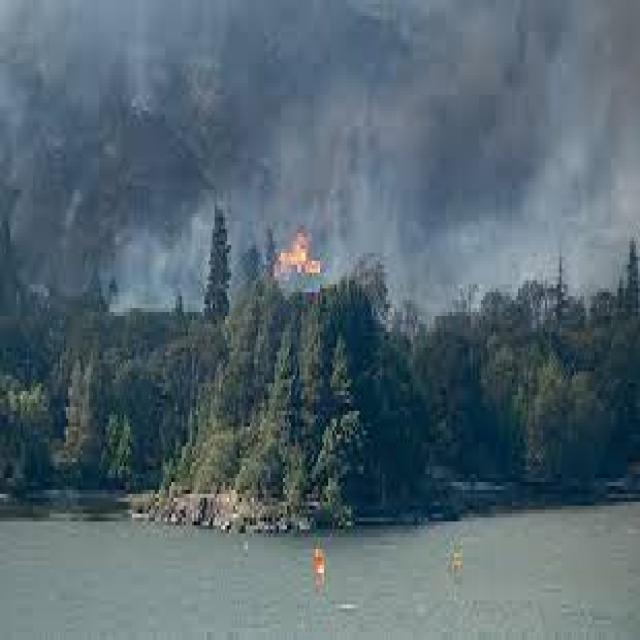Fire: (266, 216, 334, 294)
Smoke: (292, 26, 630, 258)
